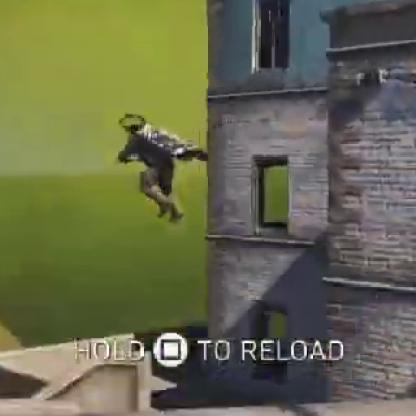enemy: (113, 114, 190, 226)
